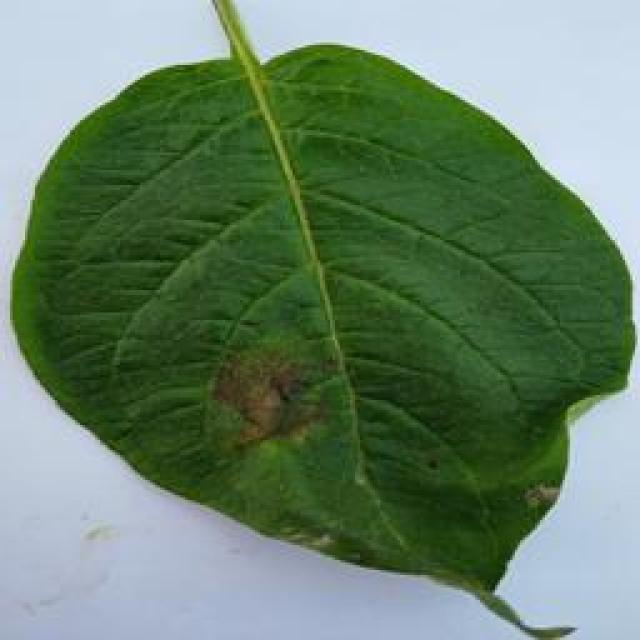Potato_Late_Blight: (12, 35, 626, 629)
